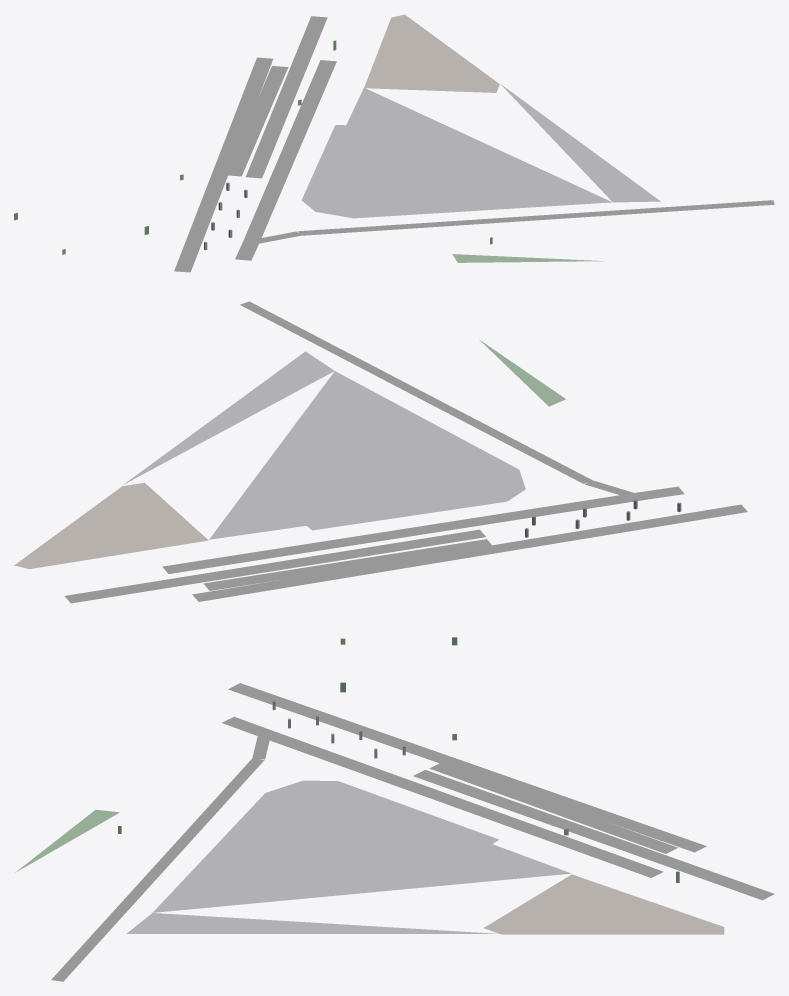
3 views of the same model, one above another, from view 1: azimuth 30°, elevation 25°; view 2: azimuth 150°, elevation 25°; view 3: azimuth 270°, elevation 25° (orthographic). The views are drawn at different scales.
Bounding box in the file's own units: 428 × 7.39 × 409.
